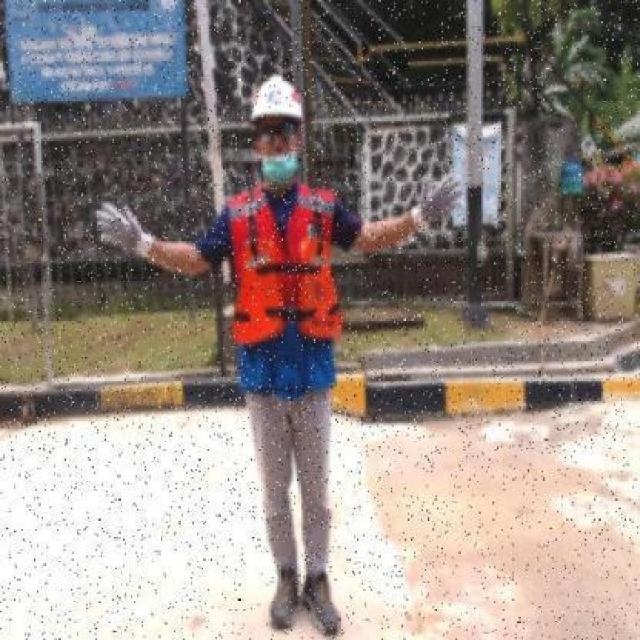Boots: (302, 570, 340, 636), (269, 566, 300, 632)
Gloves: (95, 198, 153, 262), (409, 169, 463, 237)
Helmet: (249, 75, 303, 122)
Mask: (262, 153, 298, 185)
Protective Glasses: (256, 121, 299, 139)
Vest: (228, 236, 342, 347)
